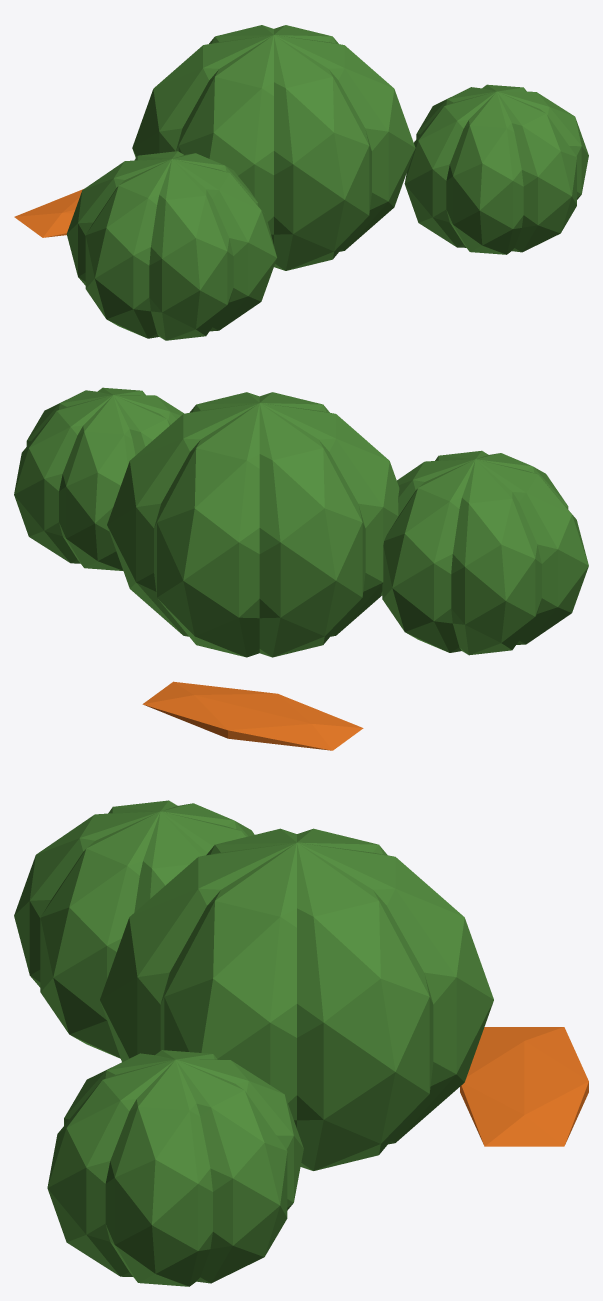
File: M13_Pumpkins.fbx
3 renders of one model, top to bottom at view 1: azimuth 30°, elevation 25°; view 2: azimuth 150°, elevation 25°; view 3: azimuth 270°, elevation 25°, orthographic. The views are drawn at different scales.
Parts seen in each view (by area): view 1: M13_Pumpkins; view 2: M13_Pumpkins; view 3: M13_Pumpkins.
Boxes of the visible parts, x1,y1,x2,y2 form: M13_Pumpkins: [14, 25, 588, 340]; M13_Pumpkins: [14, 387, 588, 750]; M13_Pumpkins: [14, 800, 588, 1286].
Bounding box in the file's own units: 5.35 × 2.43 × 3.79.
1 material, 1 textured.
